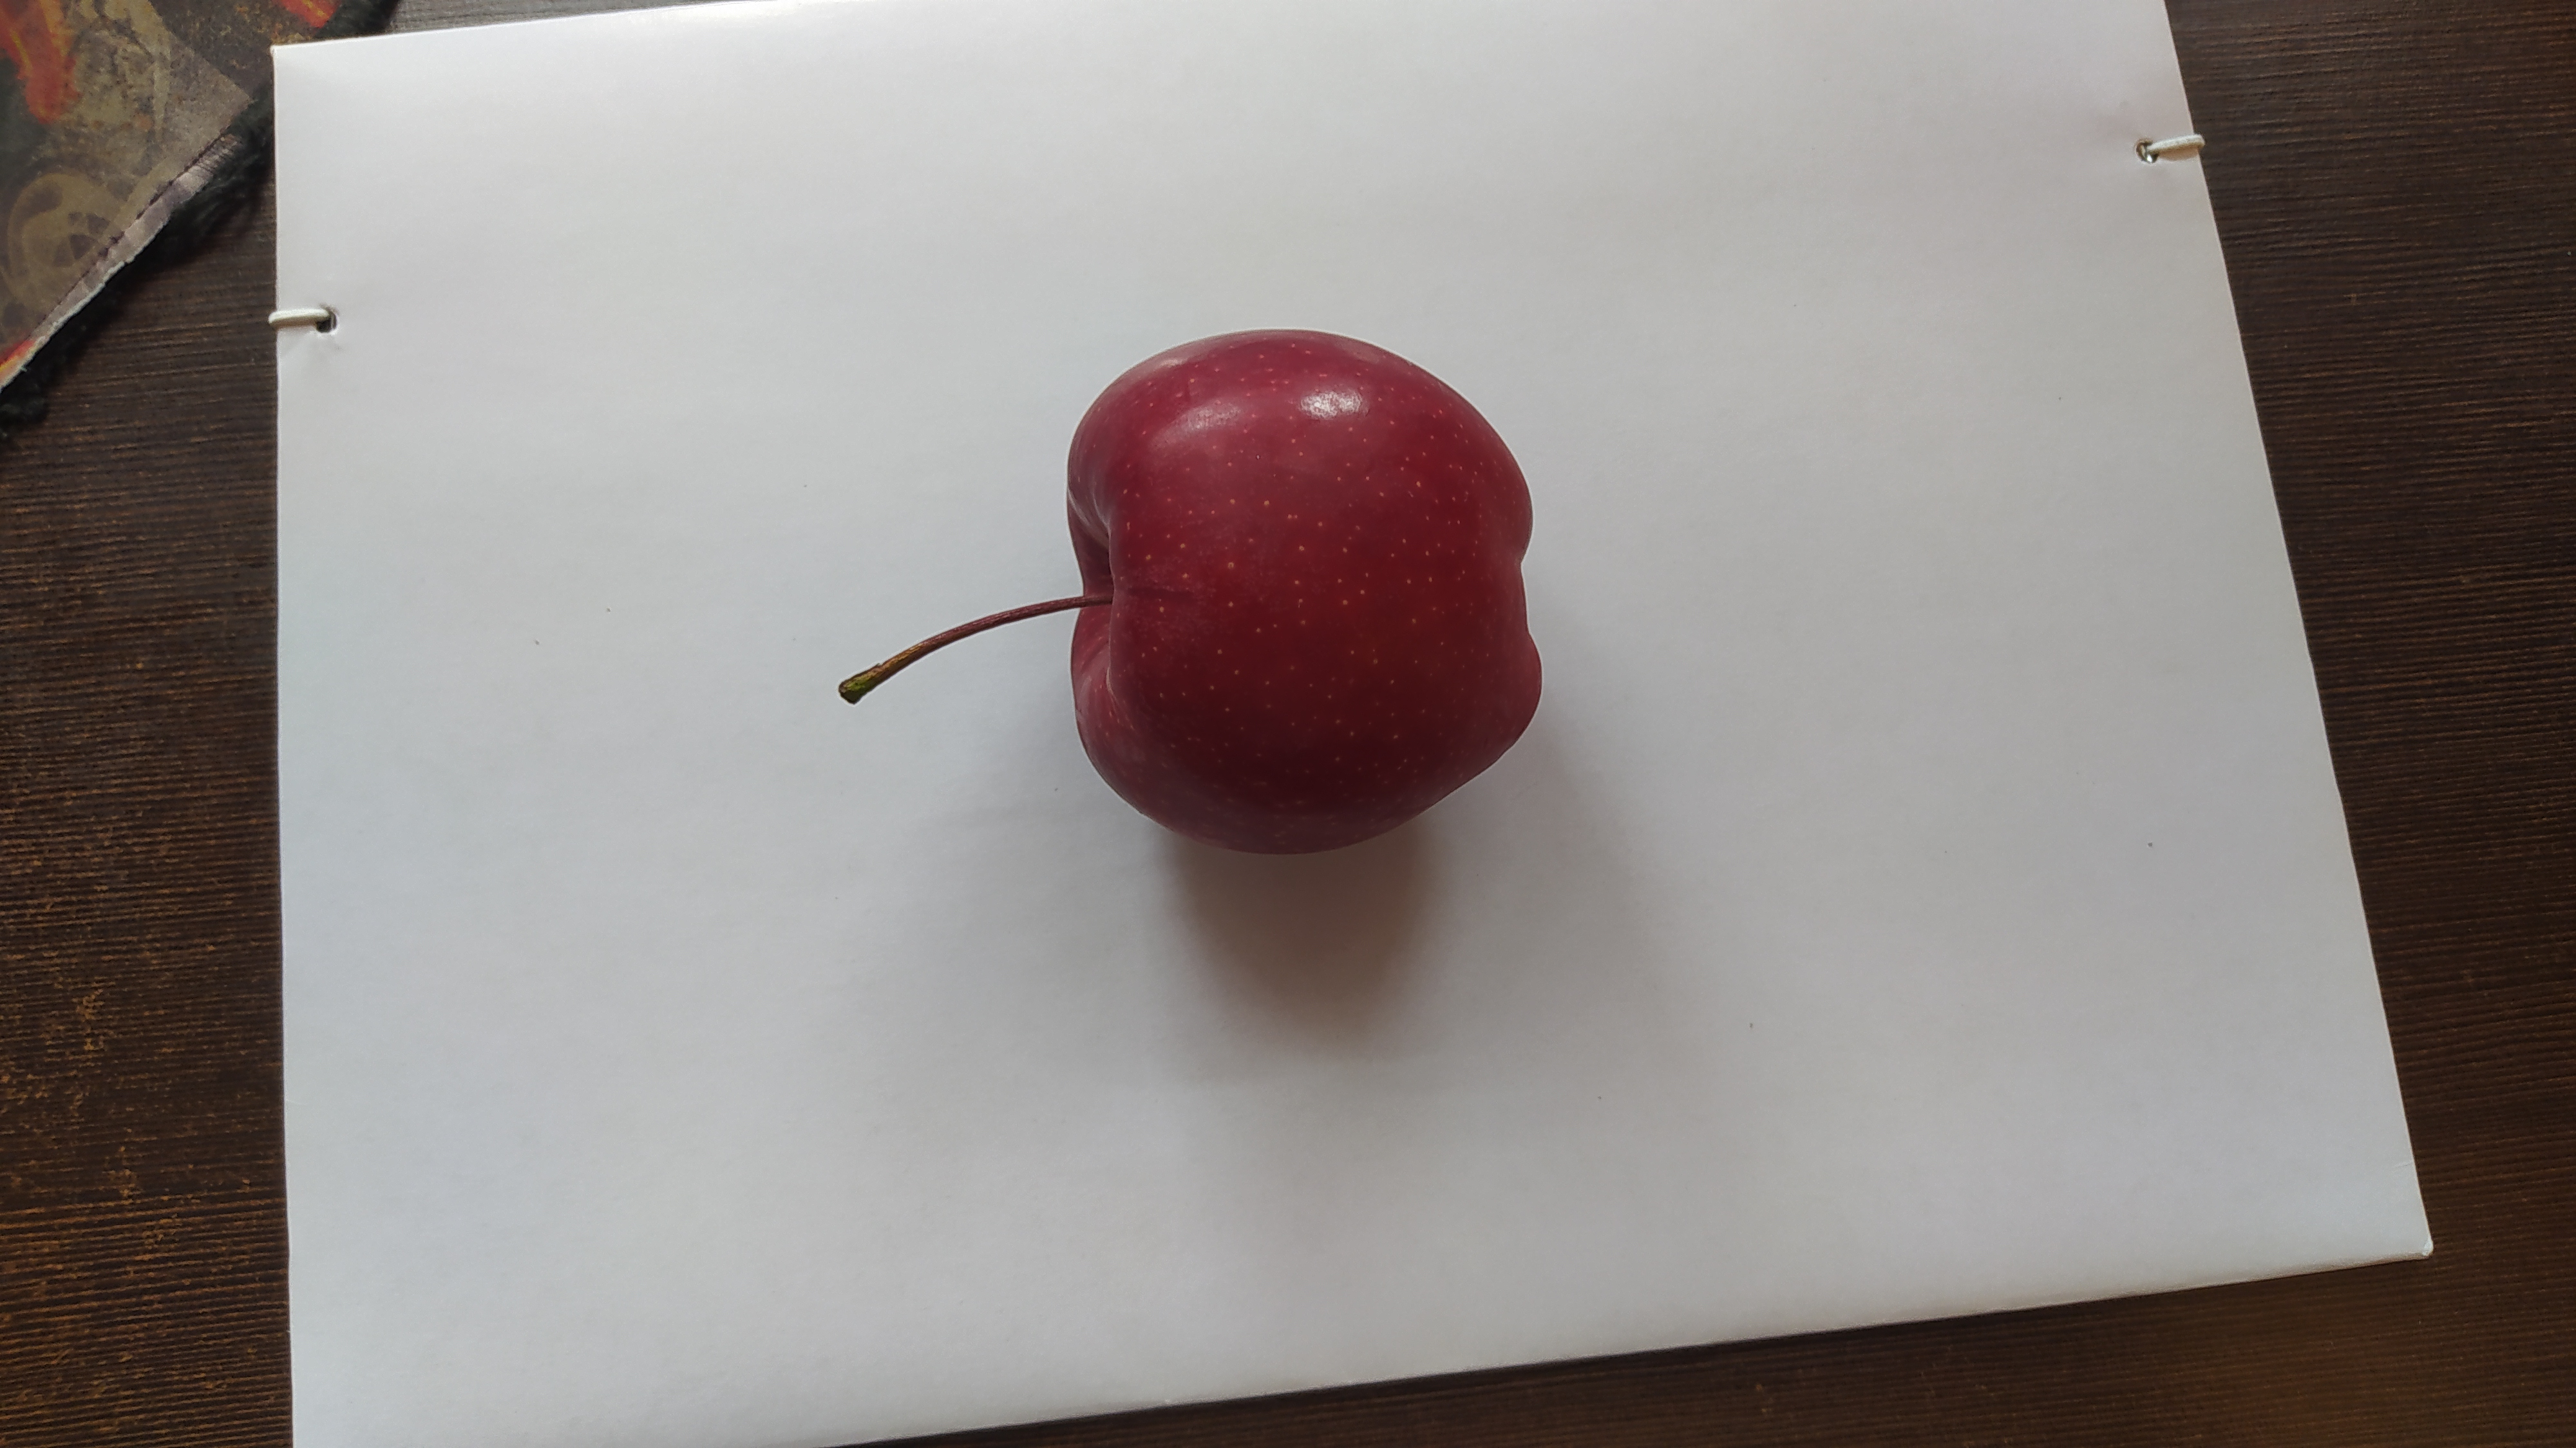apple: (1063, 327, 1548, 862)
